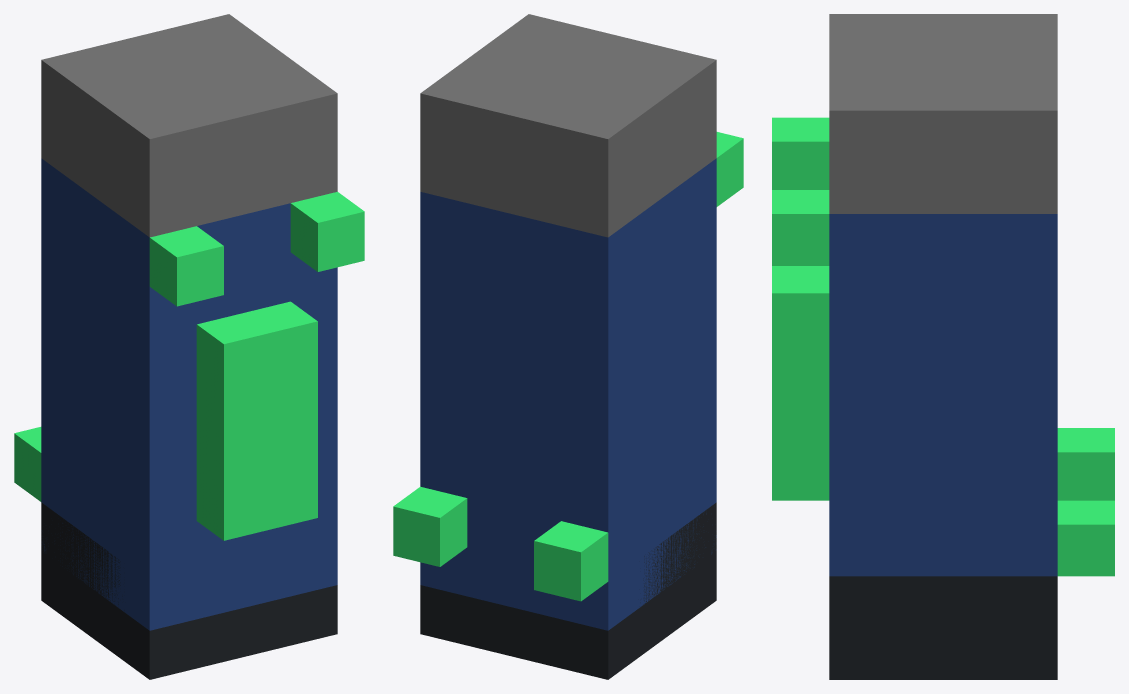
The model's file is prop_health_cell.glb.
The picture shows the model from 3 angles, left to right: view 1: azimuth 30°, elevation 25°; view 2: azimuth 150°, elevation 25°; view 3: azimuth 270°, elevation 25°; orthographic projection. The views are drawn at different scales.
Parts seen in each view (by area): view 1: Body mesh, Cap mesh, Core mesh, Base mesh, Light mesh; view 2: Body mesh, Cap mesh, Base mesh, Light mesh; view 3: Body mesh, Cap mesh, Base mesh, Light mesh, Core mesh.
Boxes of the visible parts, bbox=[...] form: Body mesh: bbox=[41, 158, 337, 630]; Cap mesh: bbox=[41, 14, 337, 237]; Core mesh: bbox=[196, 301, 317, 540]; Base mesh: bbox=[41, 502, 337, 679]; Light mesh: bbox=[14, 191, 364, 501]; Body mesh: bbox=[420, 158, 716, 630]; Cap mesh: bbox=[420, 14, 716, 237]; Base mesh: bbox=[420, 502, 716, 679]; Light mesh: bbox=[393, 132, 743, 601]; Body mesh: bbox=[829, 214, 1057, 576]; Cap mesh: bbox=[829, 14, 1057, 213]; Base mesh: bbox=[829, 576, 1057, 679]; Light mesh: bbox=[772, 117, 1114, 576]; Core mesh: bbox=[772, 266, 829, 500].
Bounding box in the file's own units: 4 × 11 × 6.
1 material, 1 textured.
